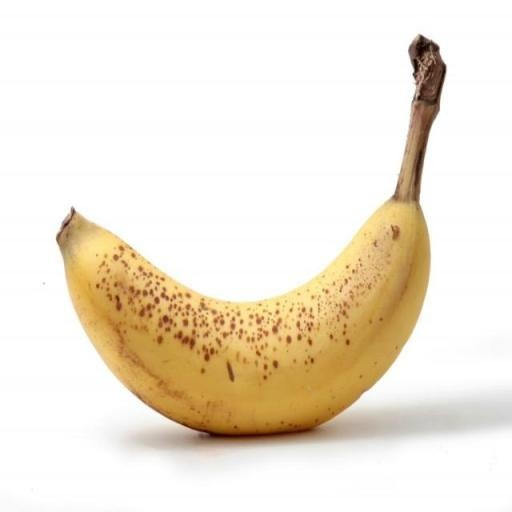fruit: (30, 113, 96, 397)
